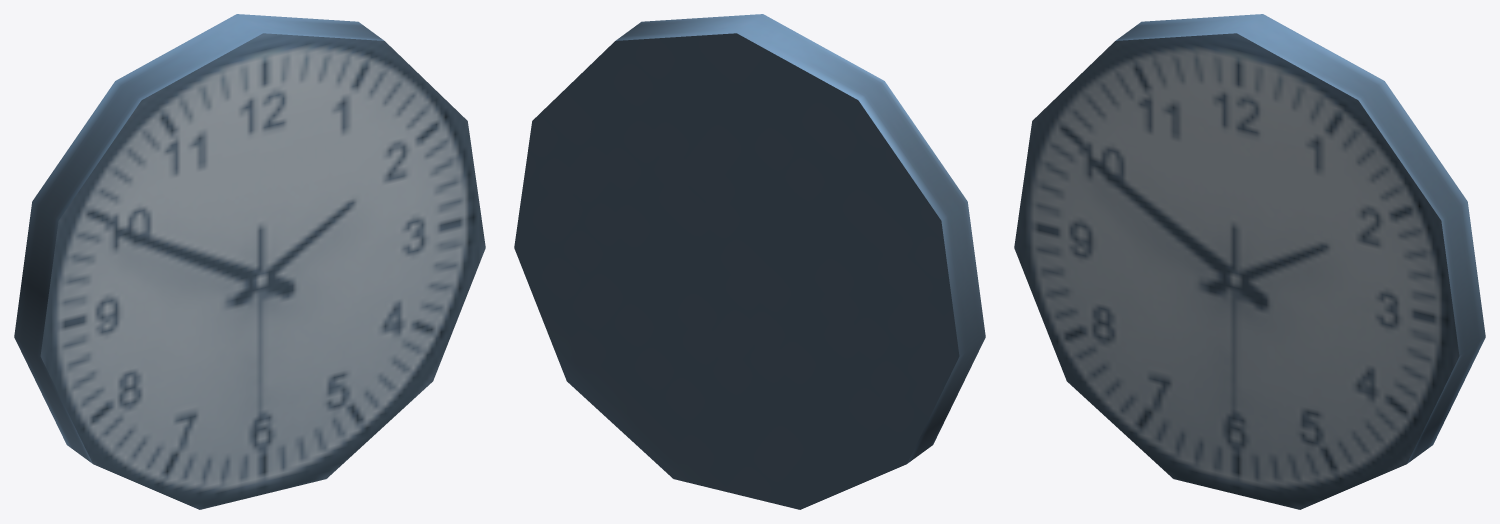
Rendered from TouKuiZheJia_01_zhong_01.FBX.
3 views of the same model, side by side, from view 1: azimuth 30°, elevation 25°; view 2: azimuth 150°, elevation 25°; view 3: azimuth 330°, elevation 25° (orthographic).
Parts seen in each view (by area): view 1: TouKuiZheJia_zhong_01; view 2: TouKuiZheJia_zhong_01; view 3: TouKuiZheJia_zhong_01.
Boxes of the visible parts, bbox=[...] form: TouKuiZheJia_zhong_01: bbox=[14, 14, 485, 509]; TouKuiZheJia_zhong_01: bbox=[514, 14, 985, 509]; TouKuiZheJia_zhong_01: bbox=[1014, 14, 1485, 509].
Bounding box in the file's own units: 259 × 256 × 26.54.
